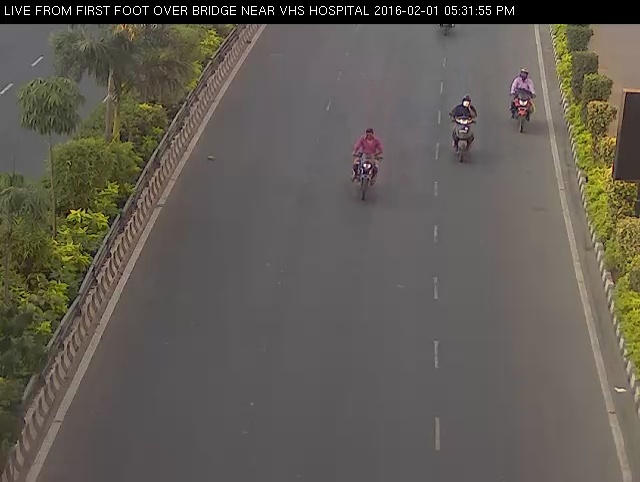Person: (342, 119, 393, 211), (440, 89, 489, 170), (506, 62, 538, 139)
